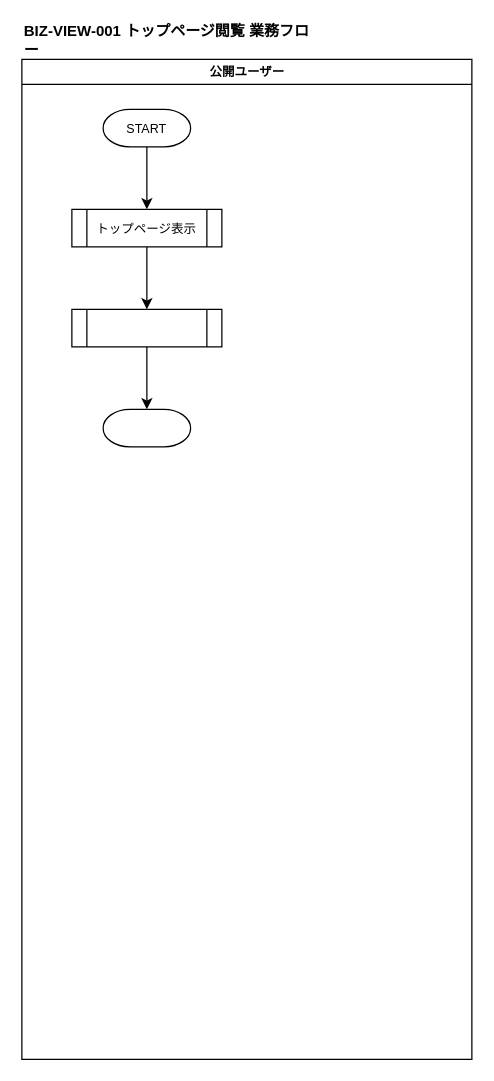
This 494x1081 diagram has some shape labels left out. The shapes that lost their labels are listed below. From the top down, each one's centre as x and y in pixels, then its label:
At [146,327]: "コンテンツ概要確認".
At [146,427]: "END".
